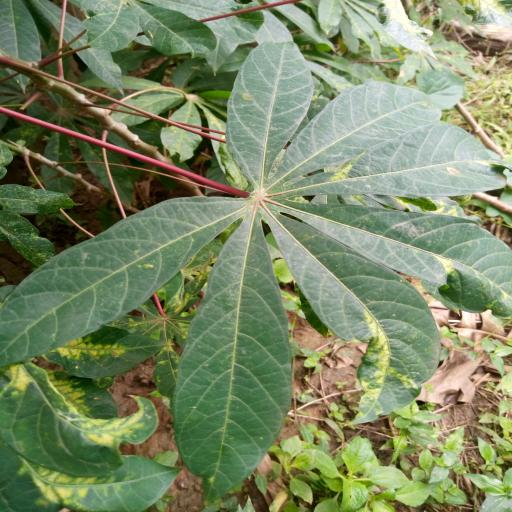Cassava_Mosaic: (0, 30, 512, 508)
